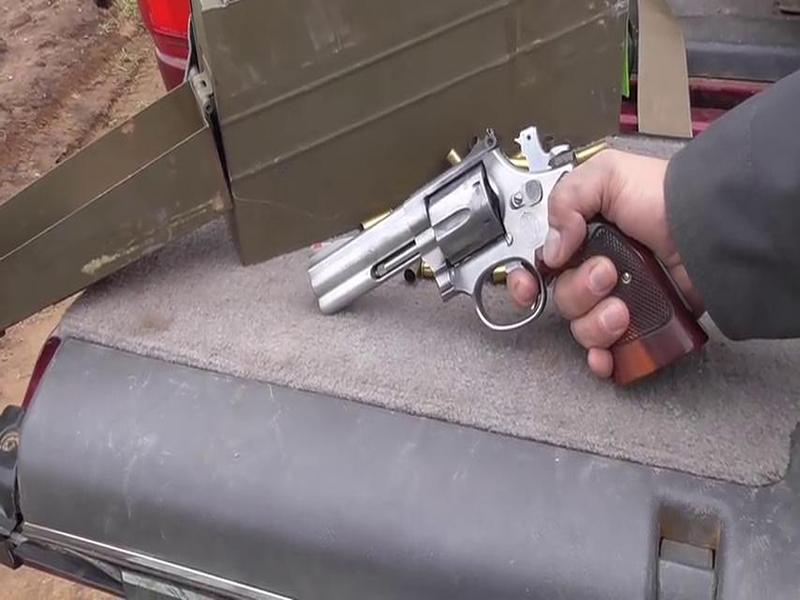Revolver: (300, 105, 663, 413)
